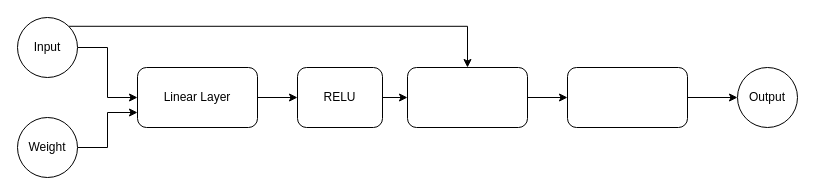
Image size: 815x195. Some labels were removed from this diagram. The box of each missing label's shape, as (x1, y1, x2, y2) in pixels:
Normalization: (566, 66, 688, 128)
Residual Connection: (406, 66, 528, 128)
